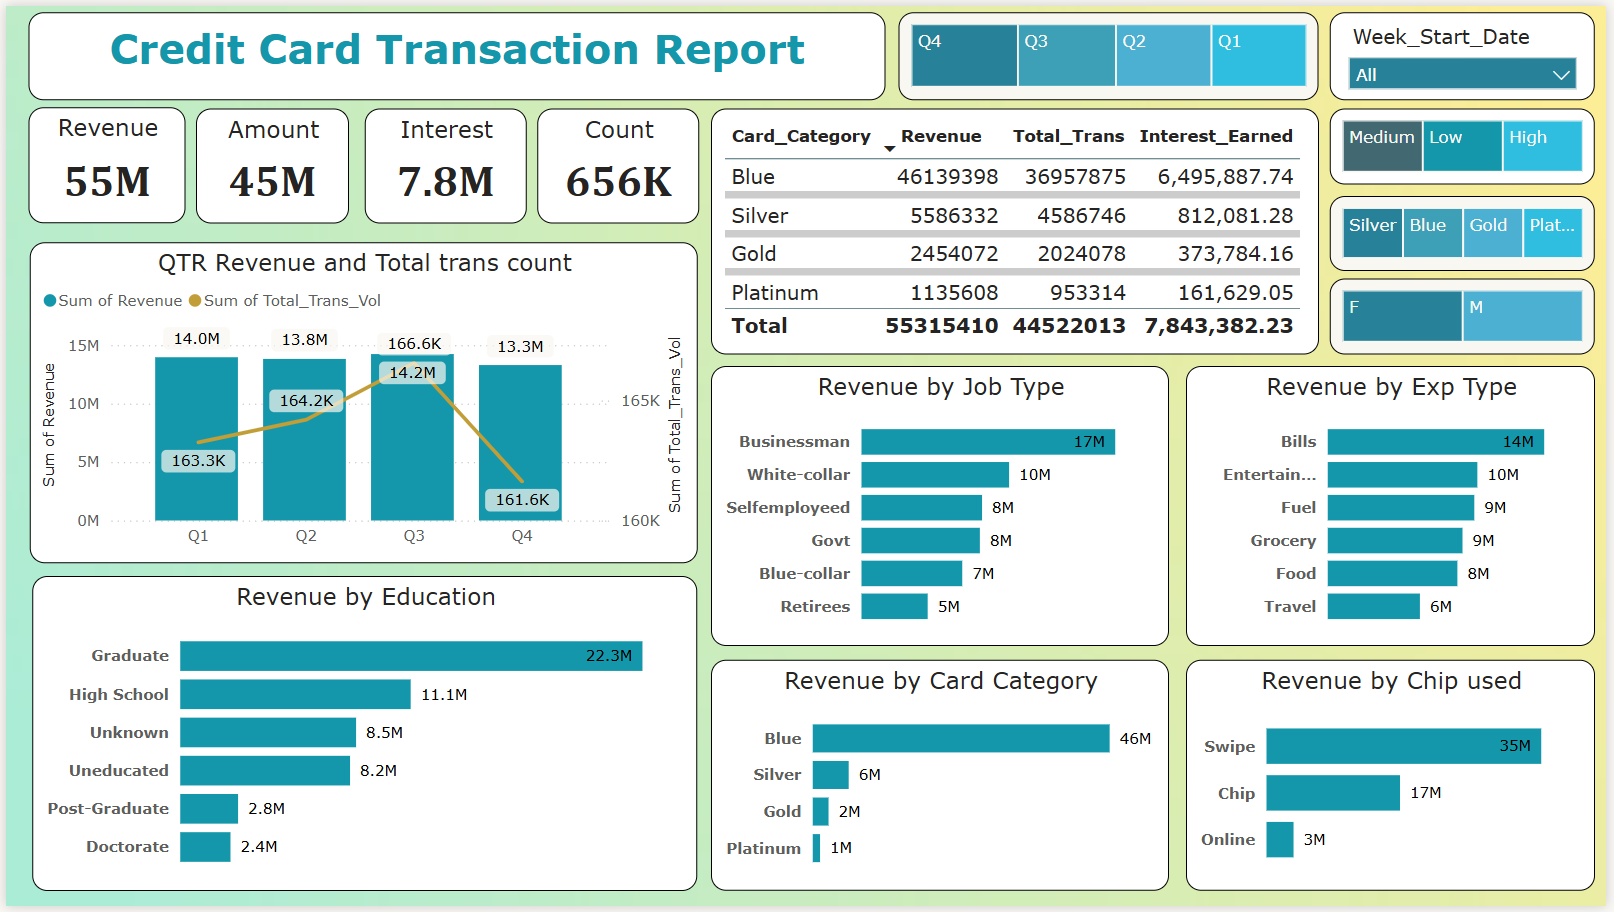

The dashboard page shown, as its layout file describes it:
{"tool":"powerbi","page":{"name":"CC Transaction","canvas":[1280,720],"ordinal":0},"visuals":[{"type":"textbox","box":[17.8,5.5,684.7,70],"z":0},{"type":"lineStackedColumnComboChart","title":"QTR Revenue and Total trans count","fields":{"Category":["credit_card.Qtr"],"Y":["Sum(credit_card.Revenue)"],"Y2":["Sum(credit_card.Total_Trans_Vol)"]},"box":[19.2,189.4,533.8,256.6],"z":1000},{"type":"barChart","title":"Revenue by Exp Type","fields":{"Y":["Sum(credit_card.Revenue)"],"Category":["credit_card.Exp Type"]},"box":[944.1,288.2,326.6,223.7],"z":2000},{"type":"barChart","title":"Revenue by Education","fields":{"Y":["Sum(credit_card.Revenue)"],"Category":["creditcard cust_detail.Education_Level"]},"box":[20.6,455.6,532.4,252.5],"z":3000},{"type":"barChart","title":"Revenue by Job Type","fields":{"Y":["Sum(credit_card.Revenue)"],"Category":["creditcard cust_detail.Customer_Job"]},"box":[564,288.2,366.4,223.7],"z":4000},{"type":"barChart","title":"Revenue by Card Category","fields":{"Y":["Sum(credit_card.Revenue)"],"Category":["credit_card.Card_Category"]},"box":[564,522.8,366.4,185.2],"z":5000},{"type":"barChart","title":"Revenue by Chip used","fields":{"Y":["Sum(credit_card.Revenue)"],"Category":["credit_card.Use Chip"]},"box":[944.1,522.8,326.6,185.2],"z":6000},{"type":"tableEx","fields":{"Values":["credit_card.Card_Category","Sum(credit_card.Revenue)","Sum(credit_card.Total_Trans_Amt)","Sum(credit_card.Interest_Earned)"]},"box":[564,82.3,485.8,196.2],"z":7000},{"type":"card","title":"Revenue","fields":{"Values":["Sum(credit_card.Revenue)"]},"box":[17.8,81,124.9,93.3],"z":8000},{"type":"card","title":"Amount","fields":{"Values":["Sum(credit_card.Total_Trans_Amt)"]},"box":[152.3,82.3,122.1,91.9],"z":9000},{"type":"card","title":"Count","fields":{"Values":["Sum(credit_card.Total_Trans_Vol)"]},"box":[425.4,82.3,129,91.9],"z":10000},{"type":"card","title":"Interest","fields":{"Values":["Sum(credit_card.Interest_Earned)"]},"box":[286.8,82.3,129,91.9],"z":11000},{"type":"slicer","fields":{"Values":["credit_card.Week_Start_Date"]},"box":[1059.4,5.5,211.3,70],"z":12000},{"type":"treemap","fields":{"Group":["credit_card.Qtr"],"Values":["Avg(credit_card.Client_Num)"]},"box":[713.6,5.5,336.2,70],"z":13000},{"type":"treemap","fields":{"Group":["creditcard cust_detail.Gender"],"Values":["Avg(credit_card.Client_Num)"]},"box":[1059.4,218.2,211.3,60.4],"z":14000},{"type":"treemap","fields":{"Group":["credit_card.Card_Category"],"Values":["Avg(credit_card.Client_Num)"]},"box":[1059.4,152.3,211.3,60],"z":15000},{"type":"treemap","fields":{"Group":["creditcard cust_detail.IncomeGroup"],"Values":["Avg(credit_card.Client_Num)"]},"box":[1059.4,82.3,211.3,60.4],"z":16000}]}

Visuals, with their boxes in screenshot pixels (x1, y1, x2, y2), scaled from the page's 1280x720 canvas onto the 1614x912 screenshot:
textbox: rect(22, 7, 886, 96)
"QTR Revenue and Total trans count" lineStackedColumnComboChart: rect(24, 240, 697, 565)
"Revenue by Exp Type" barChart: rect(1190, 365, 1602, 648)
"Revenue by Education" barChart: rect(26, 577, 697, 897)
"Revenue by Job Type" barChart: rect(711, 365, 1173, 648)
"Revenue by Card Category" barChart: rect(711, 662, 1173, 897)
"Revenue by Chip used" barChart: rect(1190, 662, 1602, 897)
tableEx - credit_card.Card_Category x Sum(credit_card.Revenue): rect(711, 104, 1324, 353)
"Revenue" card: rect(22, 103, 180, 221)
"Amount" card: rect(192, 104, 346, 221)
"Count" card: rect(536, 104, 699, 221)
"Interest" card: rect(362, 104, 524, 221)
slicer - credit_card.Week_Start_Date: rect(1336, 7, 1602, 96)
treemap - credit_card.Qtr x Avg(credit_card.Client_Num): rect(900, 7, 1324, 96)
treemap - creditcard cust_detail.Gender x Avg(credit_card.Client_Num): rect(1336, 276, 1602, 353)
treemap - credit_card.Card_Category x Avg(credit_card.Client_Num): rect(1336, 193, 1602, 269)
treemap - creditcard cust_detail.IncomeGroup x Avg(credit_card.Client_Num): rect(1336, 104, 1602, 181)
